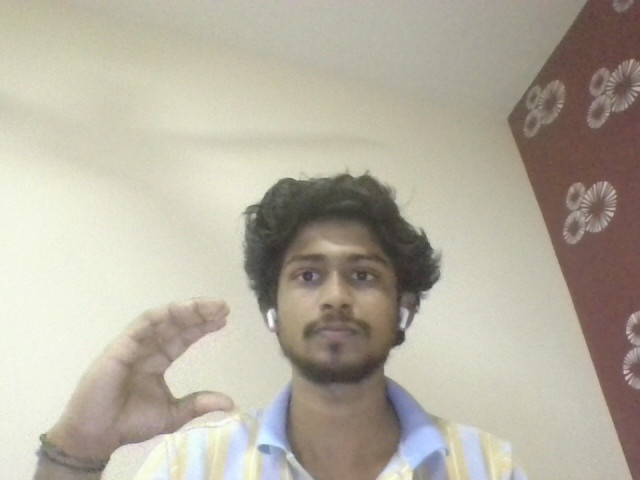No: (69, 297, 243, 447)
